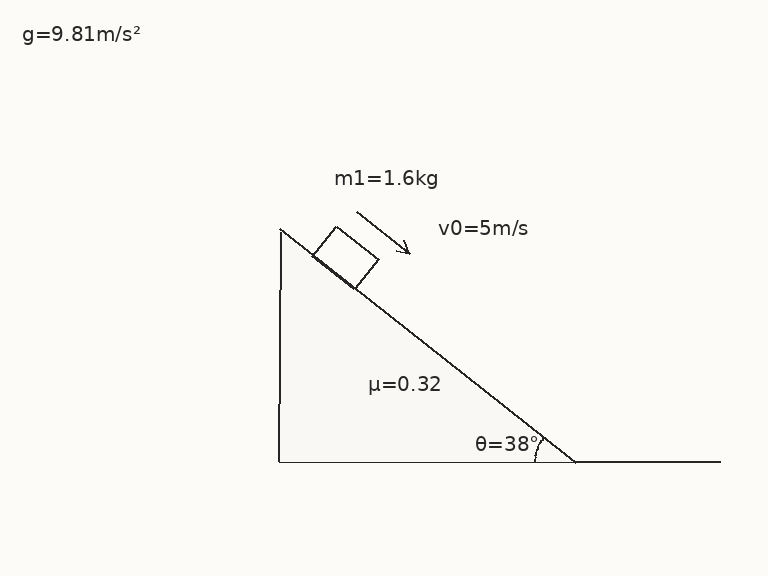block: (310, 224, 380, 291)
ramp: (277, 229, 577, 464)
